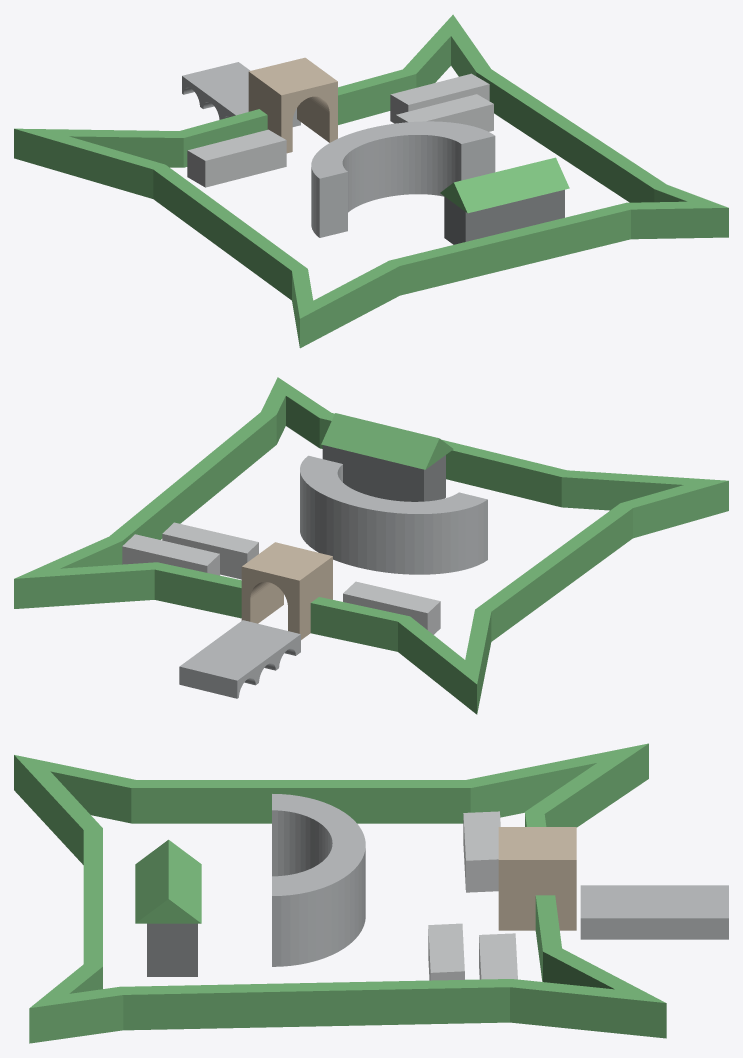
The model's file is fort1.glb.
3 views of the same model, one above another, from view 1: azimuth 30°, elevation 25°; view 2: azimuth 150°, elevation 25°; view 3: azimuth 270°, elevation 25° (orthographic). The views are drawn at different scales.
Parts seen in each view (by area): view 1: Mesh_Mesh_head_geo.001_lambert2SG.001; view 2: Mesh_Mesh_head_geo.001_lambert2SG.001; view 3: Mesh_Mesh_head_geo.001_lambert2SG.001.
Boxes of the visible parts, left/top/right/bottom form: Mesh_Mesh_head_geo.001_lambert2SG.001: left=14, top=14, right=728, bottom=348; Mesh_Mesh_head_geo.001_lambert2SG.001: left=14, top=377, right=728, bottom=714; Mesh_Mesh_head_geo.001_lambert2SG.001: left=14, top=743, right=728, bottom=1043.
Bounding box in the file's own units: 0.1604 × 0.025 × 0.1831.
